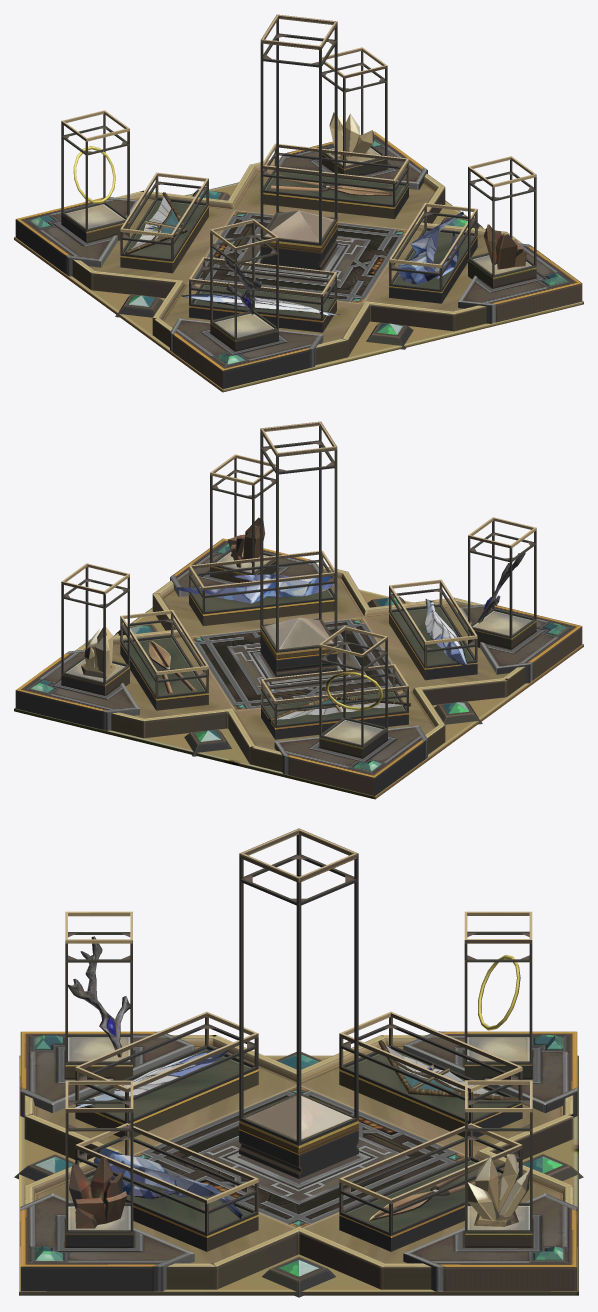
File: trap_444_xbexbi.fbx
3 renders of one model, top to bottom at view 1: azimuth 30°, elevation 25°; view 2: azimuth 150°, elevation 25°; view 3: azimuth 270°, elevation 25°, orthographic. The views are drawn at different scales.
Parts seen in each view (by area): view 1: Shelf1, trophy6, trophy1, trophy8, trophy2, trophy7, trophy5, trophy3; view 2: Shelf1, trophy6, trophy1, trophy8, trophy7, trophy2, trophy5, trophy3; view 3: Shelf1, trophy1, trophy2, trophy6, trophy8, trophy3, trophy7, trophy5, trophy4.
Part boxes in pixels (x1,y1,x2,y2): Shelf1: (14, 14, 583, 392); trophy6: (398, 211, 463, 284); trophy1: (329, 112, 375, 161); trophy8: (125, 192, 187, 254); trophy2: (483, 224, 526, 269); trophy7: (181, 294, 340, 316); trophy5: (271, 175, 396, 195); trophy3: (225, 258, 261, 314); Shelf1: (14, 421, 583, 799); trophy6: (176, 574, 333, 603); trophy1: (81, 627, 115, 678); trophy8: (268, 697, 411, 722); trophy7: (425, 599, 467, 666); trophy2: (227, 517, 265, 567); trophy5: (149, 640, 196, 694); trophy3: (476, 552, 525, 623); Shelf1: (14, 828, 583, 1297); trophy1: (467, 1154, 529, 1226); trophy2: (69, 1157, 127, 1228); trophy6: (93, 1148, 244, 1218); trophy8: (378, 1040, 519, 1100); trophy3: (68, 936, 130, 1057); trophy7: (74, 1046, 229, 1107); trophy5: (368, 1167, 501, 1221); trophy4: (478, 955, 520, 1030).
Bounding box in the file's own units: 2.08 × 1.3 × 2.08.
1 material, 1 textured.
